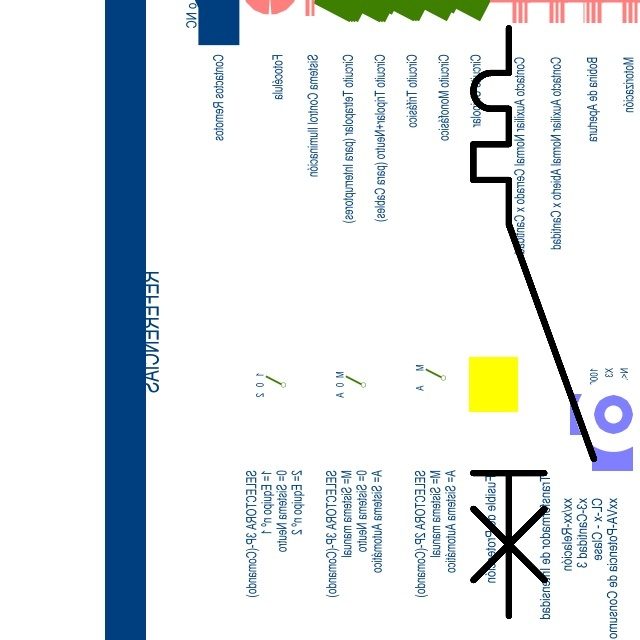interruptor_termomagnetico: (458, 13, 609, 631)
